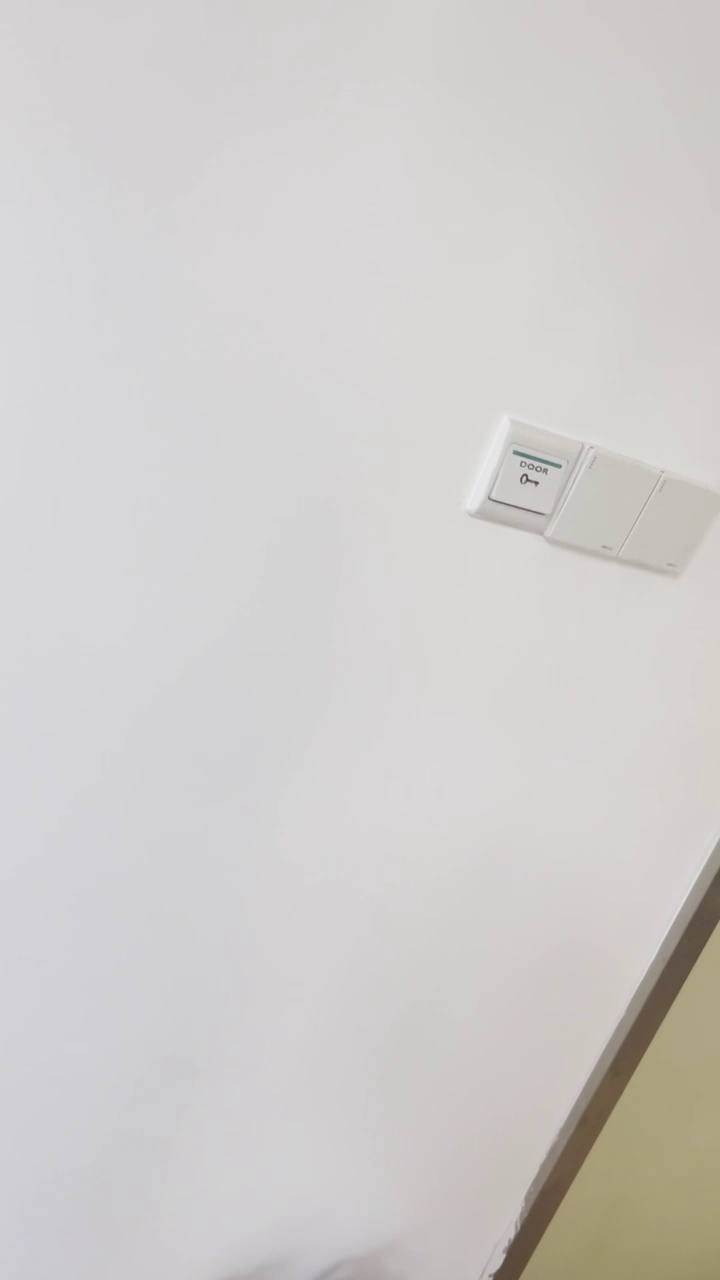button: (541, 440, 666, 557), (617, 469, 718, 580)
